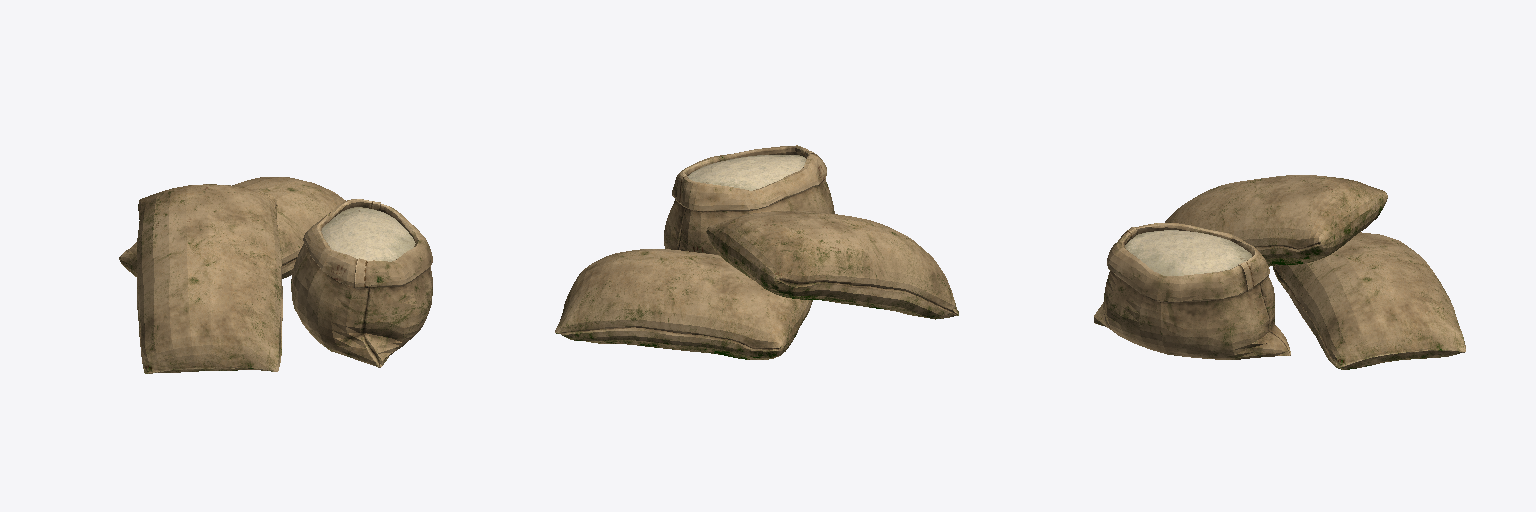
3 renders of one model, left to right at view 1: azimuth 30°, elevation 25°; view 2: azimuth 150°, elevation 25°; view 3: azimuth 270°, elevation 25°, orthographic.
Parts seen in each view (by area): view 1: obj1; view 2: obj1; view 3: obj1.
Part boxes in pixels (left/top/right/bottom): obj1: left=119, top=177, right=432, bottom=373; obj1: left=555, top=145, right=958, bottom=359; obj1: left=1094, top=175, right=1465, bottom=369.
Bounding box in the file's own units: 1.26 × 0.4399 × 1.34.
Materials: 1 (1 with a texture image).